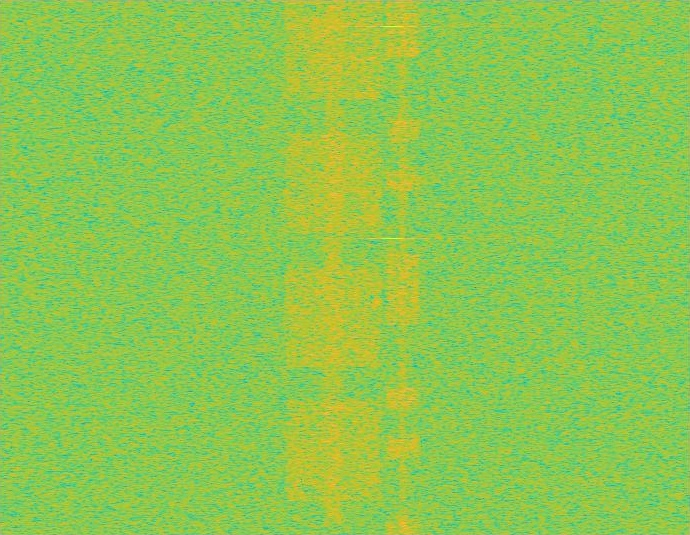5G: (282, 0, 386, 534)
DSSS: (322, 0, 345, 534), (399, 0, 407, 534)
LTE: (386, 0, 420, 534)
Radar: (385, 0, 399, 534)
